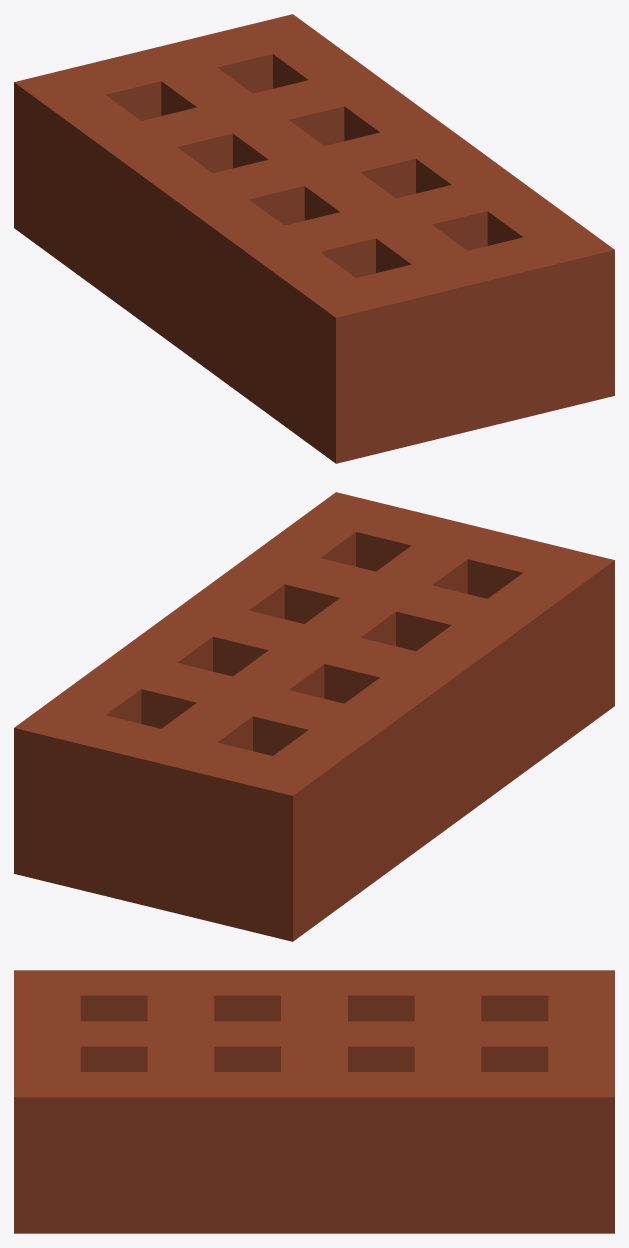
The model's file is Brick1.FBX.
3 views of the same model, one above another, from view 1: azimuth 30°, elevation 25°; view 2: azimuth 150°, elevation 25°; view 3: azimuth 270°, elevation 25° (orthographic). The views are drawn at different scales.
Parts seen in each view (by area): view 1: Box001; view 2: Box001; view 3: Box001.
Part boxes in pixels (box(x1,y1,x2,y2)): Box001: box(14, 14, 614, 463); Box001: box(14, 492, 614, 941); Box001: box(14, 970, 614, 1233).
Size of the model in its own units: 50 by 25 by 100.
